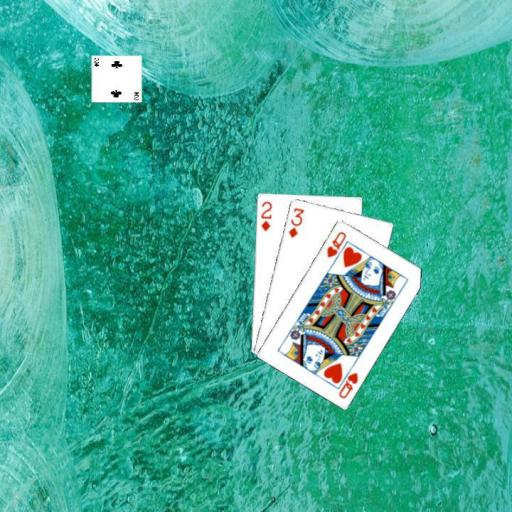2D: (257, 198, 273, 233)
3D: (285, 204, 306, 240)
QH: (334, 362, 359, 400), (324, 228, 348, 259)
